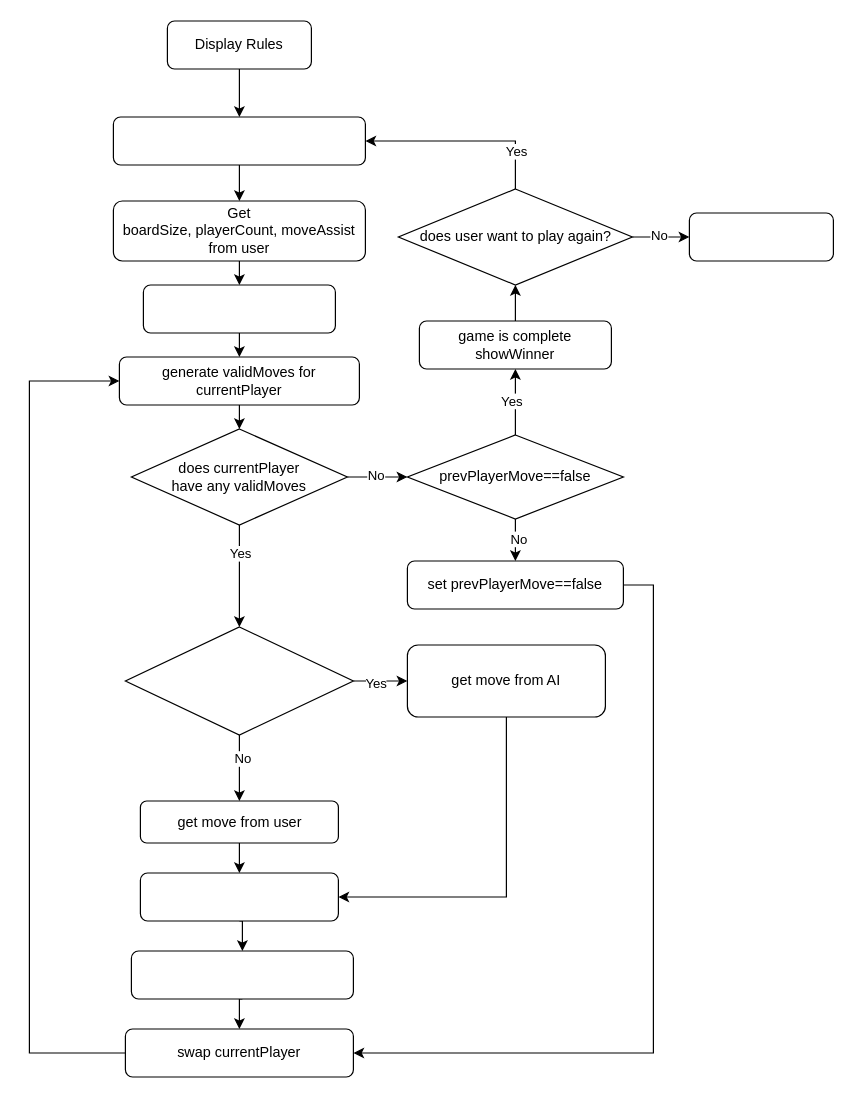
Some shapes in this 854 by 1098 pixel diagram are drawn without their labels. Here are the shapes that lost their labels. From the top down, the centre of each, then its label:
(238,140): Set CurrentPlayer = 1, nextPlayer = 2
(760,236): Exit
(238,308): Set prevPlayerMove to true
(238,680): is playerCount==1 and currentPlayer==2
(238,896): update Board
(241,974): set prevPlayerMove==true
